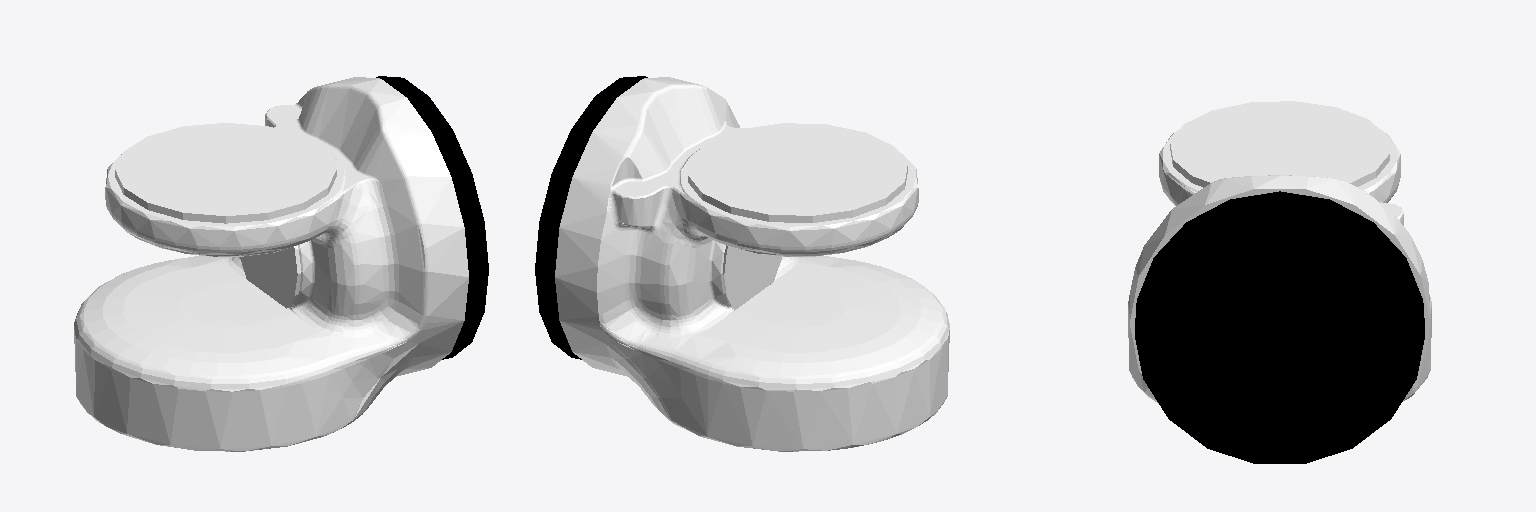
3 renders of one model, left to right at view 1: azimuth 30°, elevation 25°; view 2: azimuth 150°, elevation 25°; view 3: azimuth 270°, elevation 25°, orthographic.
Parts seen in each view (by area): view 1: L0600_Wrist1_CMZ05-01_00\ﾊﾟｰﾂ ﾎﾞﾃﾞｨｰ; view 2: L0600_Wrist1_CMZ05-01_00\ﾊﾟｰﾂ ﾎﾞﾃﾞｨｰ; view 3: L0600_Wrist1_CMZ05-01_00\ﾊﾟｰﾂ ﾎﾞﾃﾞｨｰ.
Boxes of the visible parts, <box> form: L0600_Wrist1_CMZ05-01_00\ﾊﾟｰﾂ ﾎﾞﾃﾞｨｰ: <box>74,76,488,451</box>; L0600_Wrist1_CMZ05-01_00\ﾊﾟｰﾂ ﾎﾞﾃﾞｨｰ: <box>535,76,949,451</box>; L0600_Wrist1_CMZ05-01_00\ﾊﾟｰﾂ ﾎﾞﾃﾞｨｰ: <box>1128,101,1431,463</box>.
Size of the model in its own units: 0.1155 by 0.093 by 0.094.